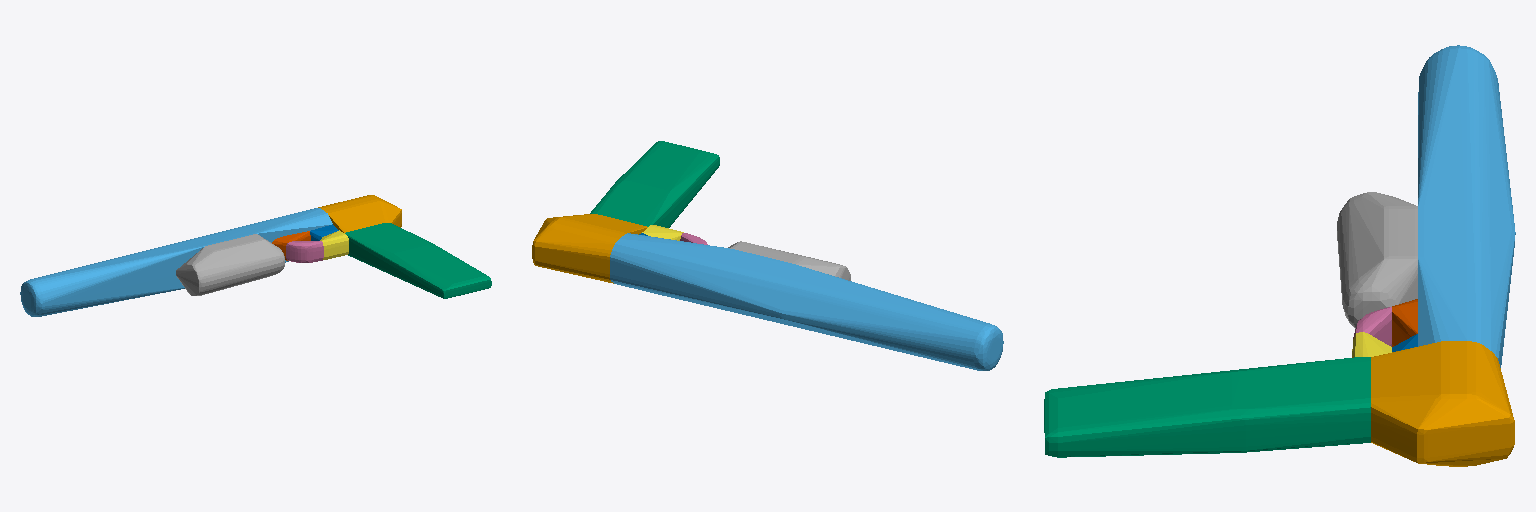
The robot description file, URDF, robot "root":
<robot name="root">
  <link name="link_convex_piece_001.obj">
    <inertial>
      <origin xyz="0 0 0" rpy="0 0 0"/>
    </inertial>
    <visual>
      <origin xyz="0 0 0" rpy="0 0 0"/>
      <geometry>
        <mesh filename="meshes/convex_piece_001.obj" scale="1.0 1.0 1.0"/>
      </geometry>
    </visual>
    <collision>
      <origin xyz="0 0 0" rpy="0 0 0"/>
      <geometry>
        <mesh filename="meshes/convex_piece_001.obj" scale="1.0 1.0 1.0"/>
      </geometry>
    </collision>
  </link>
  <link name="link_convex_piece_002.obj">
    <inertial>
      <origin xyz="0 0 0" rpy="0 0 0"/>
    </inertial>
    <visual>
      <origin xyz="0 0 0" rpy="0 0 0"/>
      <geometry>
        <mesh filename="meshes/convex_piece_002.obj" scale="1.0 1.0 1.0"/>
      </geometry>
    </visual>
    <collision>
      <origin xyz="0 0 0" rpy="0 0 0"/>
      <geometry>
        <mesh filename="meshes/convex_piece_002.obj" scale="1.0 1.0 1.0"/>
      </geometry>
    </collision>
  </link>
  <joint name="link_convex_piece_002.obj_joint" type="fixed">
    <origin xyz="0 0 0" rpy="0 0 0"/>
    <parent link="link_convex_piece_001.obj"/>
    <child link="link_convex_piece_002.obj"/>
  </joint>
  <link name="link_convex_piece_000.obj">
    <inertial>
      <origin xyz="0 0 0" rpy="0 0 0"/>
    </inertial>
    <visual>
      <origin xyz="0 0 0" rpy="0 0 0"/>
      <geometry>
        <mesh filename="meshes/convex_piece_000.obj" scale="1.0 1.0 1.0"/>
      </geometry>
    </visual>
    <collision>
      <origin xyz="0 0 0" rpy="0 0 0"/>
      <geometry>
        <mesh filename="meshes/convex_piece_000.obj" scale="1.0 1.0 1.0"/>
      </geometry>
    </collision>
  </link>
  <joint name="link_convex_piece_000.obj_joint" type="fixed">
    <origin xyz="0 0 0" rpy="0 0 0"/>
    <parent link="link_convex_piece_002.obj"/>
    <child link="link_convex_piece_000.obj"/>
  </joint>
  <link name="link_convex_piece_006.obj">
    <inertial>
      <origin xyz="0 0 0" rpy="0 0 0"/>
    </inertial>
    <visual>
      <origin xyz="0 0 0" rpy="0 0 0"/>
      <geometry>
        <mesh filename="meshes/convex_piece_006.obj" scale="1.0 1.0 1.0"/>
      </geometry>
    </visual>
    <collision>
      <origin xyz="0 0 0" rpy="0 0 0"/>
      <geometry>
        <mesh filename="meshes/convex_piece_006.obj" scale="1.0 1.0 1.0"/>
      </geometry>
    </collision>
  </link>
  <joint name="link_convex_piece_006.obj_joint" type="fixed">
    <origin xyz="0 0 0" rpy="0 0 0"/>
    <parent link="link_convex_piece_000.obj"/>
    <child link="link_convex_piece_006.obj"/>
  </joint>
  <link name="link_convex_piece_005.obj">
    <inertial>
      <origin xyz="0 0 0" rpy="0 0 0"/>
    </inertial>
    <visual>
      <origin xyz="0 0 0" rpy="0 0 0"/>
      <geometry>
        <mesh filename="meshes/convex_piece_005.obj" scale="1.0 1.0 1.0"/>
      </geometry>
    </visual>
    <collision>
      <origin xyz="0 0 0" rpy="0 0 0"/>
      <geometry>
        <mesh filename="meshes/convex_piece_005.obj" scale="1.0 1.0 1.0"/>
      </geometry>
    </collision>
  </link>
  <joint name="link_convex_piece_005.obj_joint" type="fixed">
    <origin xyz="0 0 0" rpy="0 0 0"/>
    <parent link="link_convex_piece_006.obj"/>
    <child link="link_convex_piece_005.obj"/>
  </joint>
  <link name="link_convex_piece_004.obj">
    <inertial>
      <origin xyz="0 0 0" rpy="0 0 0"/>
    </inertial>
    <visual>
      <origin xyz="0 0 0" rpy="0 0 0"/>
      <geometry>
        <mesh filename="meshes/convex_piece_004.obj" scale="1.0 1.0 1.0"/>
      </geometry>
    </visual>
    <collision>
      <origin xyz="0 0 0" rpy="0 0 0"/>
      <geometry>
        <mesh filename="meshes/convex_piece_004.obj" scale="1.0 1.0 1.0"/>
      </geometry>
    </collision>
  </link>
  <joint name="link_convex_piece_004.obj_joint" type="fixed">
    <origin xyz="0 0 0" rpy="0 0 0"/>
    <parent link="link_convex_piece_005.obj"/>
    <child link="link_convex_piece_004.obj"/>
  </joint>
  <link name="link_convex_piece_007.obj">
    <inertial>
      <origin xyz="0 0 0" rpy="0 0 0"/>
    </inertial>
    <visual>
      <origin xyz="0 0 0" rpy="0 0 0"/>
      <geometry>
        <mesh filename="meshes/convex_piece_007.obj" scale="1.0 1.0 1.0"/>
      </geometry>
    </visual>
    <collision>
      <origin xyz="0 0 0" rpy="0 0 0"/>
      <geometry>
        <mesh filename="meshes/convex_piece_007.obj" scale="1.0 1.0 1.0"/>
      </geometry>
    </collision>
  </link>
  <joint name="link_convex_piece_007.obj_joint" type="fixed">
    <origin xyz="0 0 0" rpy="0 0 0"/>
    <parent link="link_convex_piece_004.obj"/>
    <child link="link_convex_piece_007.obj"/>
  </joint>
  <link name="link_convex_piece_003.obj">
    <inertial>
      <origin xyz="0 0 0" rpy="0 0 0"/>
    </inertial>
    <visual>
      <origin xyz="0 0 0" rpy="0 0 0"/>
      <geometry>
        <mesh filename="meshes/convex_piece_003.obj" scale="1.0 1.0 1.0"/>
      </geometry>
    </visual>
    <collision>
      <origin xyz="0 0 0" rpy="0 0 0"/>
      <geometry>
        <mesh filename="meshes/convex_piece_003.obj" scale="1.0 1.0 1.0"/>
      </geometry>
    </collision>
  </link>
  <joint name="link_convex_piece_003.obj_joint" type="fixed">
    <origin xyz="0 0 0" rpy="0 0 0"/>
    <parent link="link_convex_piece_007.obj"/>
    <child link="link_convex_piece_003.obj"/>
  </joint>
</robot>

--- Facts derived from the render (not from the file) ---
Views: 3 orthographic renders of the robot side by side, from view 1: azimuth 30°, elevation 25°; view 2: azimuth 150°, elevation 25°; view 3: azimuth 270°, elevation 25°.
Robot: root — 8 links, 7 joints (7 fixed); root link link_convex_piece_001.obj; default pose: all joints at 0.
Links seen in each view (by area): view 1: link_convex_piece_002.obj, link_convex_piece_000.obj, link_convex_piece_003.obj, link_convex_piece_001.obj, link_convex_piece_007.obj, link_convex_piece_006.obj; view 2: link_convex_piece_002.obj, link_convex_piece_000.obj, link_convex_piece_001.obj, link_convex_piece_003.obj; view 3: link_convex_piece_000.obj, link_convex_piece_002.obj, link_convex_piece_001.obj, link_convex_piece_003.obj, link_convex_piece_004.obj, link_convex_piece_007.obj, link_convex_piece_006.obj.
Link boxes in pixels (x1,y1,x2,y2): link_convex_piece_002.obj: (20, 208, 332, 316); link_convex_piece_000.obj: (345, 223, 491, 298); link_convex_piece_003.obj: (176, 234, 284, 295); link_convex_piece_001.obj: (318, 195, 401, 232); link_convex_piece_007.obj: (286, 241, 323, 262); link_convex_piece_006.obj: (320, 230, 348, 259); link_convex_piece_002.obj: (610, 233, 1003, 370); link_convex_piece_000.obj: (590, 141, 719, 227); link_convex_piece_001.obj: (532, 214, 647, 283); link_convex_piece_003.obj: (728, 241, 850, 280); link_convex_piece_000.obj: (1044, 357, 1370, 457); link_convex_piece_002.obj: (1418, 45, 1515, 367); link_convex_piece_001.obj: (1371, 341, 1514, 466); link_convex_piece_003.obj: (1337, 192, 1417, 328); link_convex_piece_004.obj: (1392, 299, 1417, 346); link_convex_piece_007.obj: (1353, 307, 1391, 346); link_convex_piece_006.obj: (1352, 332, 1391, 357).
Bounding box of the posed robot: 1.78 × 0.9527 × 0.1805 m (x, y, z).
Meshes: 8 distinct files referenced, 8 mesh visuals loaded (8 OBJ).
